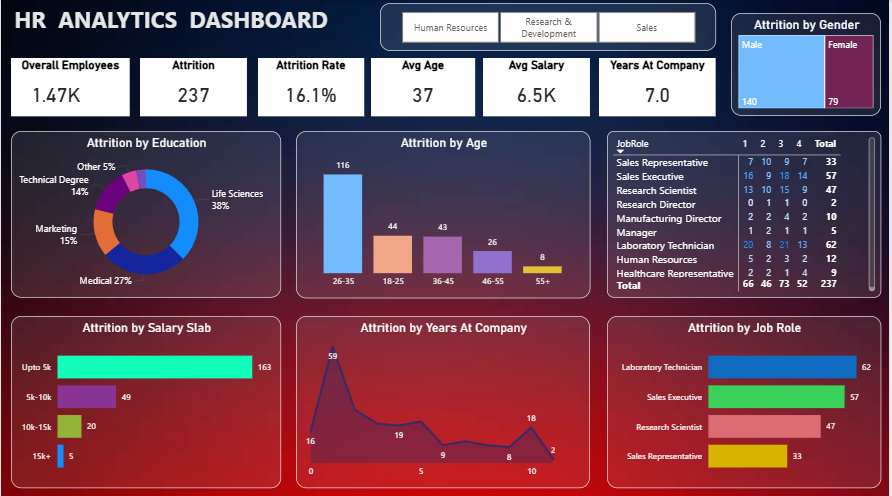

Layout of this report page (visuals, bound fields, positions):
{"tool":"powerbi","page":{"name":"Page 1","canvas":[1280,720],"ordinal":0},"visuals":[{"type":"cardVisual","title":"Overall Employees","fields":{"Data":["CountNonNull(HR_Analytics.EmpID)"]},"box":[14.4,83.5,171.4,83.5],"z":0},{"type":"cardVisual","title":"Attrition","fields":{"Data":["Sum(HR_Analytics.AttritionCount)"]},"box":[200.2,83.5,154.1,83.5],"z":1000},{"type":"cardVisual","title":"Attrition Rate","fields":{"Data":["HR_Analytics.AttritionRate"]},"box":[370.1,83.5,152.6,83.5],"z":2000},{"type":"cardVisual","title":"Avg Age","fields":{"Data":["Avg(HR_Analytics.Age)"]},"box":[532.8,83.5,149.8,83.5],"z":3000},{"type":"cardVisual","title":"Avg Salary","fields":{"Data":["Avg(HR_Analytics.MonthlyIncome)"]},"box":[694.1,83.5,154.1,83.5],"z":4000},{"type":"cardVisual","title":"Years At Company","fields":{"Data":["Avg(HR_Analytics.YearsAtCompany)"]},"box":[861.1,83.5,168.5,83.5],"z":5000},{"type":"donutChart","title":" Attrition by Education","fields":{"Category":["HR_Analytics.EducationField"],"Y":["Sum(HR_Analytics.AttritionCount)"]},"box":[14.4,188.6,388.8,240.5],"z":6000},{"type":"areaChart","title":" Attrition by Years At Company","fields":{"Category":["HR_Analytics.YearsAtCompany"],"Y":["Sum(HR_Analytics.AttritionCount)"]},"box":[424.8,455,423.4,247.7],"z":7000},{"type":"pivotTable","fields":{"Rows":["HR_Analytics.JobRole"],"Columns":["HR_Analytics.JobSatisfaction"],"Values":["Sum(HR_Analytics.AttritionCount)"]},"box":[872.6,188.6,394.6,240.5],"z":8000},{"type":"barChart","title":" Attrition by Salary Slab","fields":{"Category":["HR_Analytics.SalarySlab"],"Y":["Sum(HR_Analytics.AttritionCount)"]},"box":[14.4,455,388.8,247.7],"z":9000},{"type":"barChart","title":" Attrition by Job Role","fields":{"Y":["Sum(HR_Analytics.AttritionCount)"],"Category":["HR_Analytics.JobRole"]},"box":[872.6,455,394.6,247.7],"z":10000},{"type":"columnChart","title":" Attrition by Age","fields":{"Category":["HR_Analytics.AgeGroup"],"Y":["Sum(HR_Analytics.AttritionCount)"]},"box":[424.3,188.3,424.3,240.7],"z":11000},{"type":"treemap","title":" Attrition by Gender","fields":{"Group":["HR_Analytics.Gender"],"Values":["Sum(HR_Analytics.AttritionCount)"]},"box":[1051.2,18.7,216,148.3],"z":12000},{"type":"slicer","fields":{"Values":["HR_Analytics.Department"]},"box":[545.8,4.3,483.8,69.1],"z":13000},{"type":"textbox","box":[14.3,0,498.2,73.9],"z":14000}]}

Visuals, with their boxes in screenshot pixels (x1, y1, x2, y2), scaled from the page's 1280x720 canvas onto the 892x496 screenshot:
"Overall Employees" cardVisual: crop(10, 58, 129, 115)
"Attrition" cardVisual: crop(140, 58, 247, 115)
"Attrition Rate" cardVisual: crop(258, 58, 364, 115)
"Avg Age" cardVisual: crop(371, 58, 476, 115)
"Avg Salary" cardVisual: crop(484, 58, 591, 115)
"Years At Company" cardVisual: crop(600, 58, 718, 115)
" Attrition by Education" donutChart: crop(10, 130, 281, 296)
" Attrition by Years At Company" areaChart: crop(296, 313, 591, 484)
pivotTable - HR_Analytics.JobRole x HR_Analytics.JobSatisfaction: crop(608, 130, 883, 296)
" Attrition by Salary Slab" barChart: crop(10, 313, 281, 484)
" Attrition by Job Role" barChart: crop(608, 313, 883, 484)
" Attrition by Age" columnChart: crop(296, 130, 591, 296)
" Attrition by Gender" treemap: crop(733, 13, 883, 115)
slicer - HR_Analytics.Department: crop(380, 3, 718, 51)
textbox: crop(10, 0, 357, 51)
